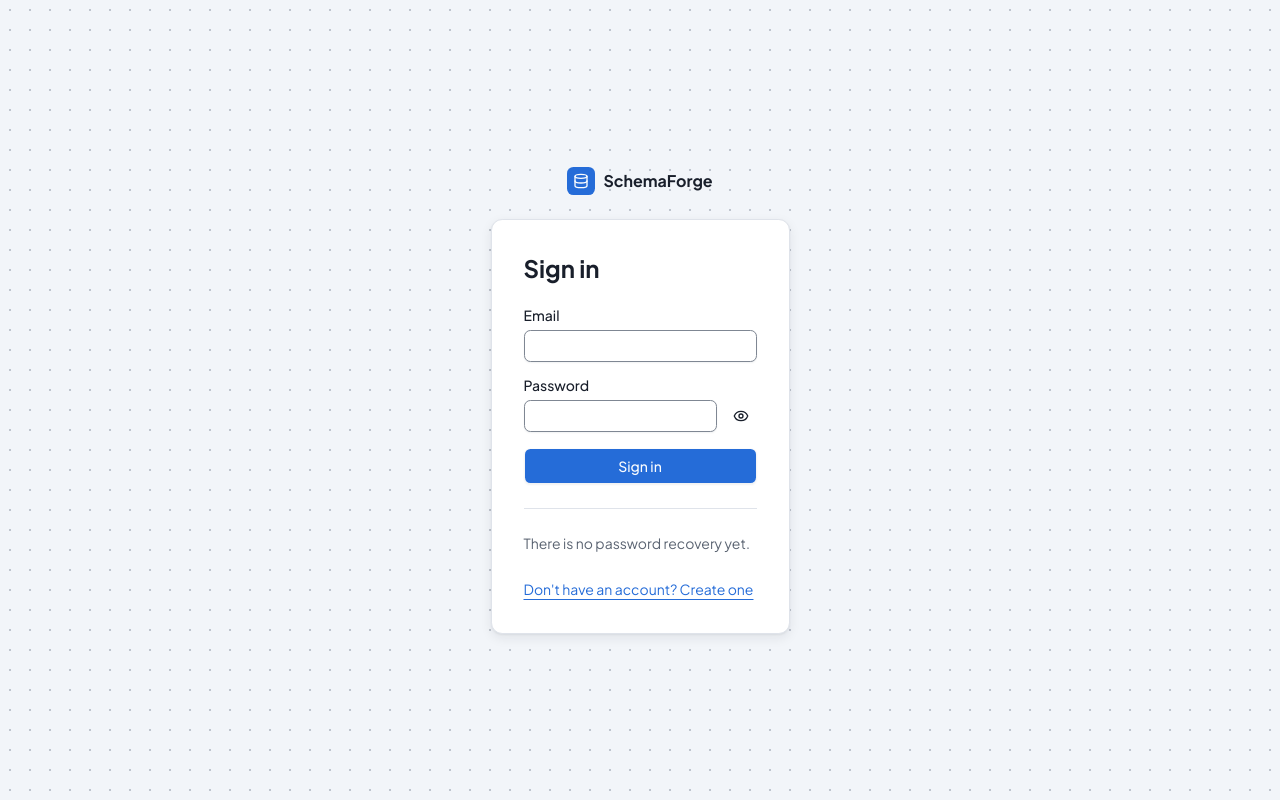
Test: guest upload journey › asks to upload guest schemas after signing in and uploads only the selected one
This screenshot has width=1280, height=800.
In the field labelled "Email": {"x": 640, "y": 346} x1=524 y1=330 x2=756 y2=362, type "user@example.com"
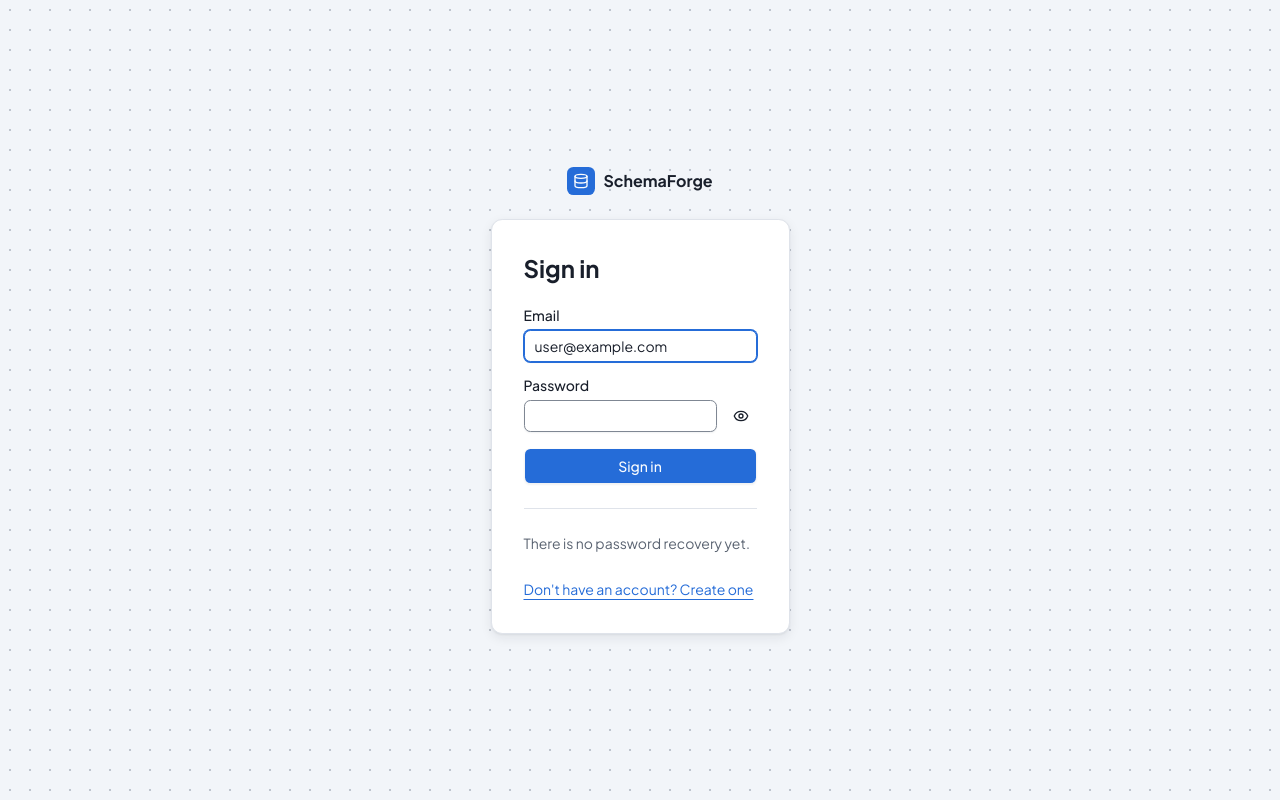
In the password field labelled "Password": {"x": 620, "y": 416} x1=524 y1=400 x2=716 y2=432, type "stapler-42"
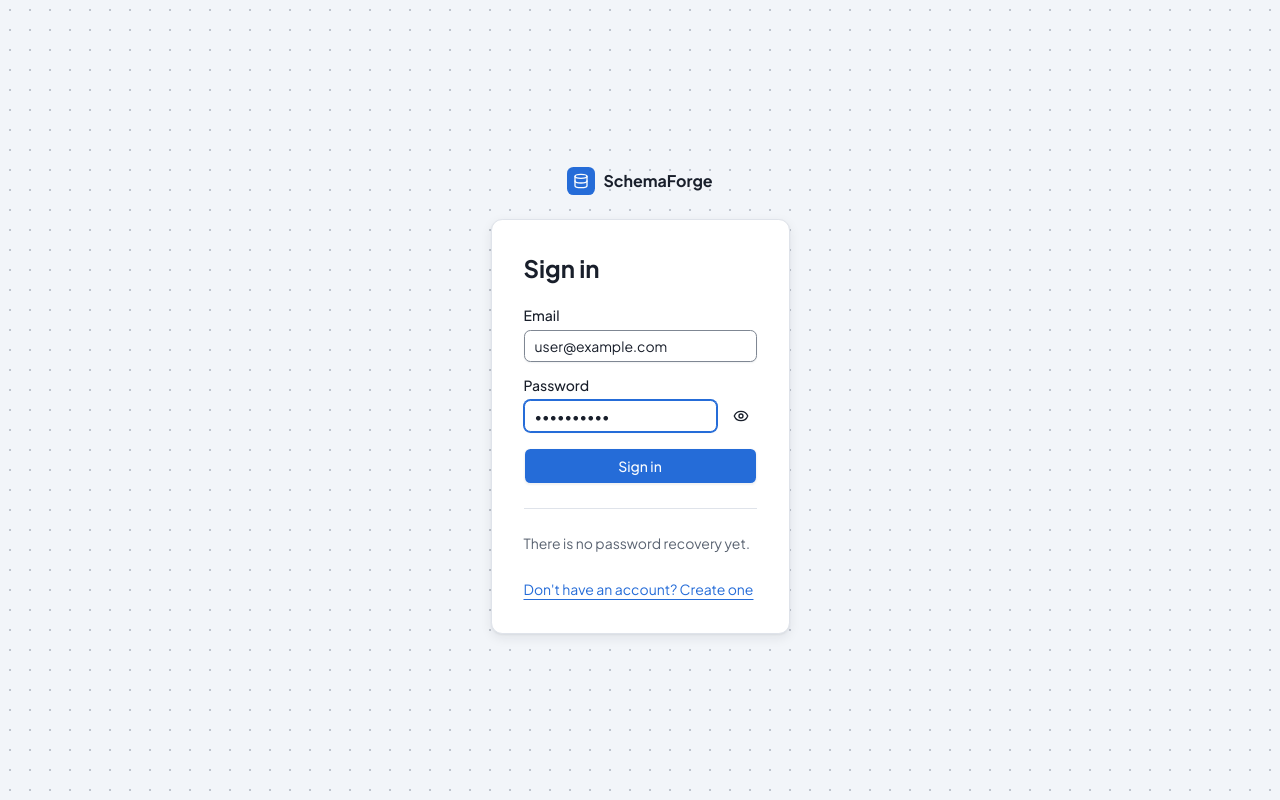
Click the button "Sign in": {"x": 640, "y": 466} x1=524 y1=448 x2=756 y2=484
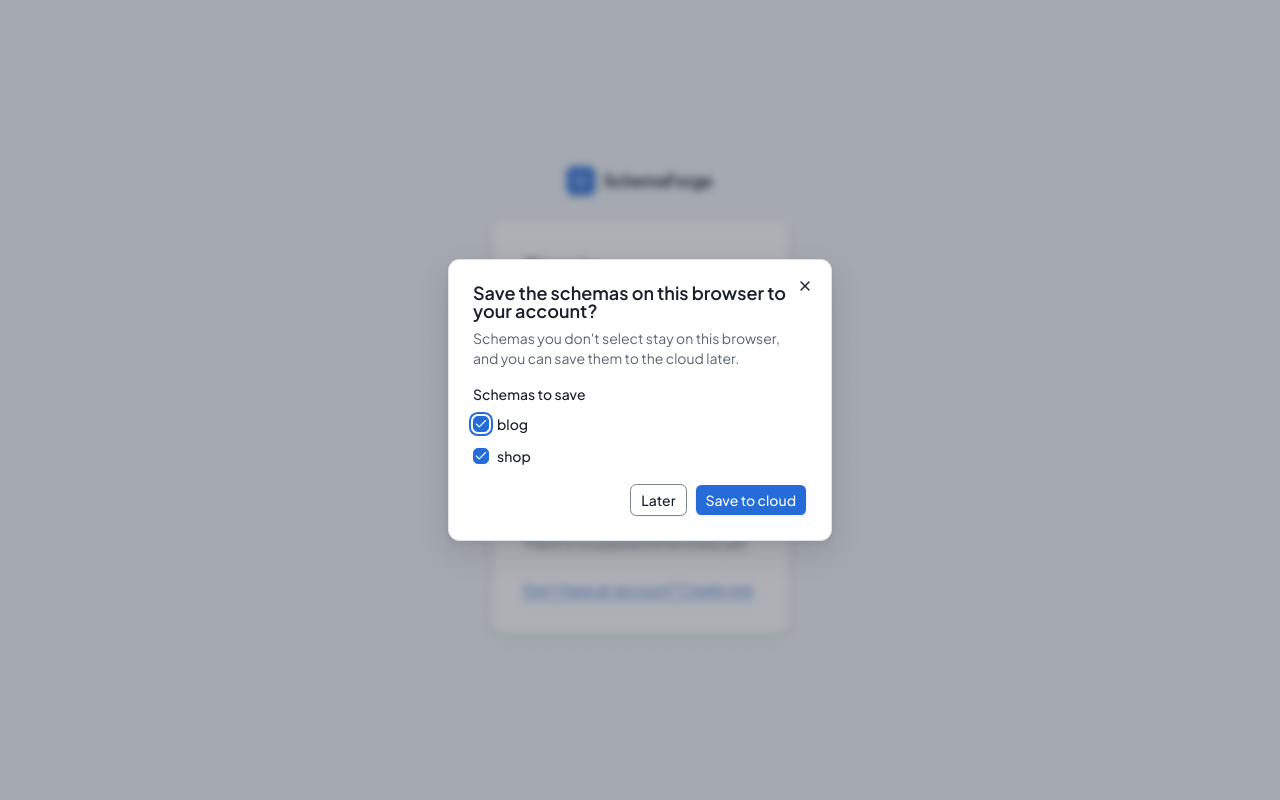
Click the checkbox named "blog" next to "blog": {"x": 481, "y": 424} x1=473 y1=416 x2=489 y2=432
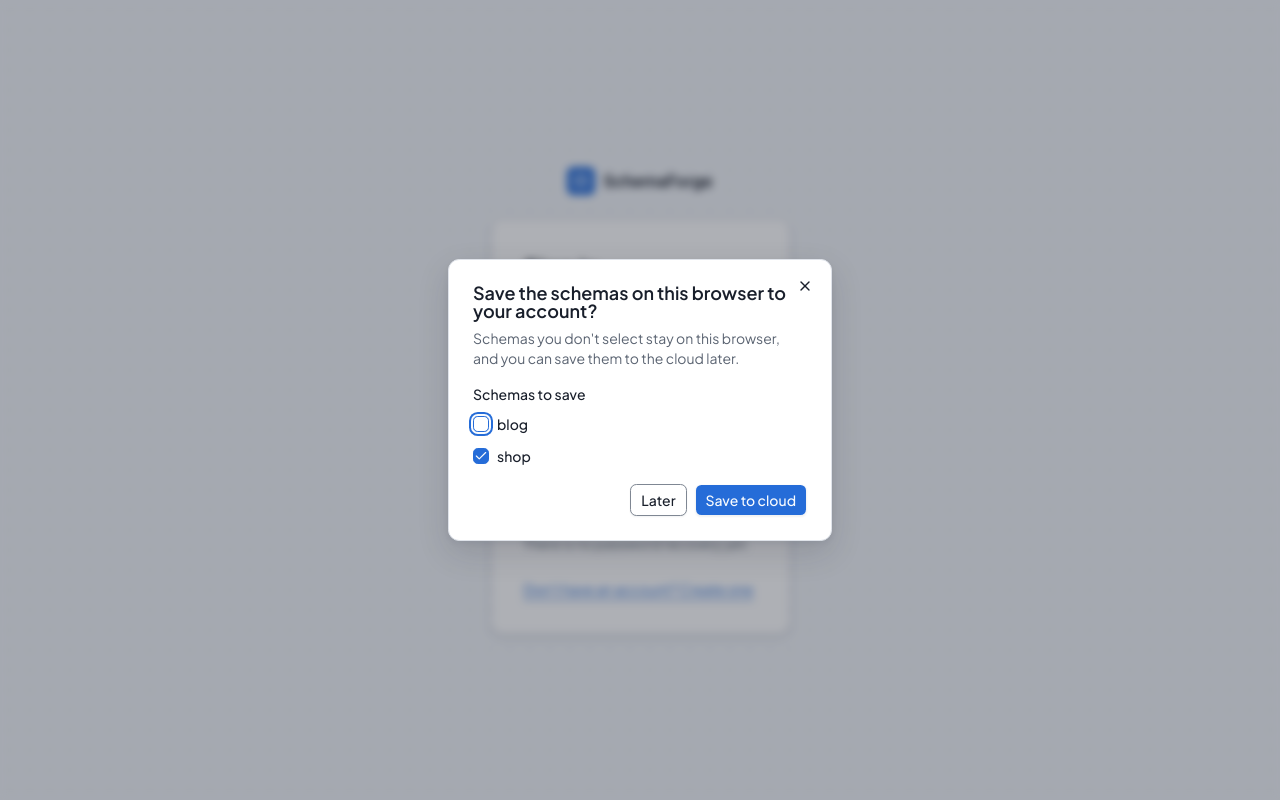
Click the button "Save to cloud": {"x": 751, "y": 500} x1=695 y1=484 x2=807 y2=516
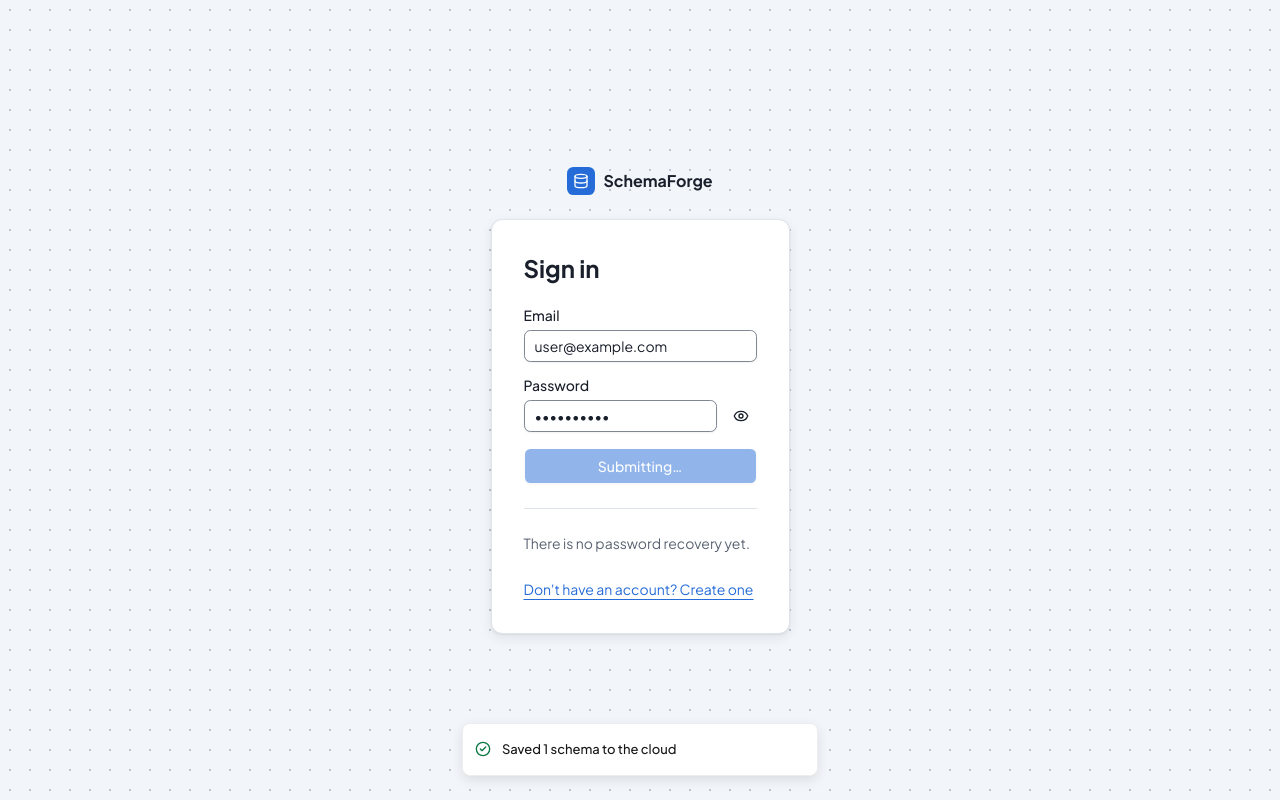
expect the heading "Save the schemas on this browser to your account?" is gone: met
